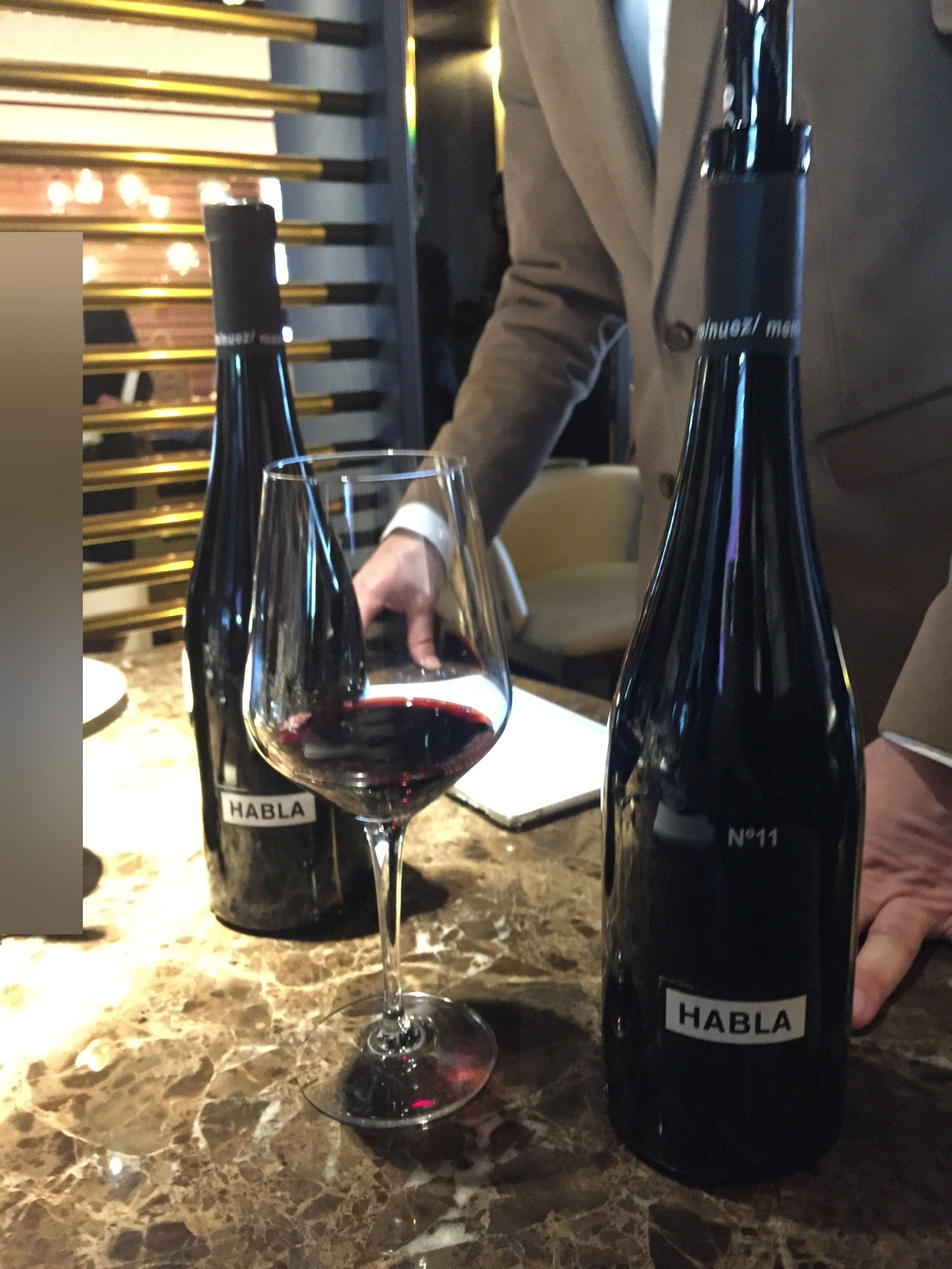bottle-glass: (588, 118, 875, 1176), (175, 175, 371, 940)
glass-wine: (244, 442, 520, 1133)
